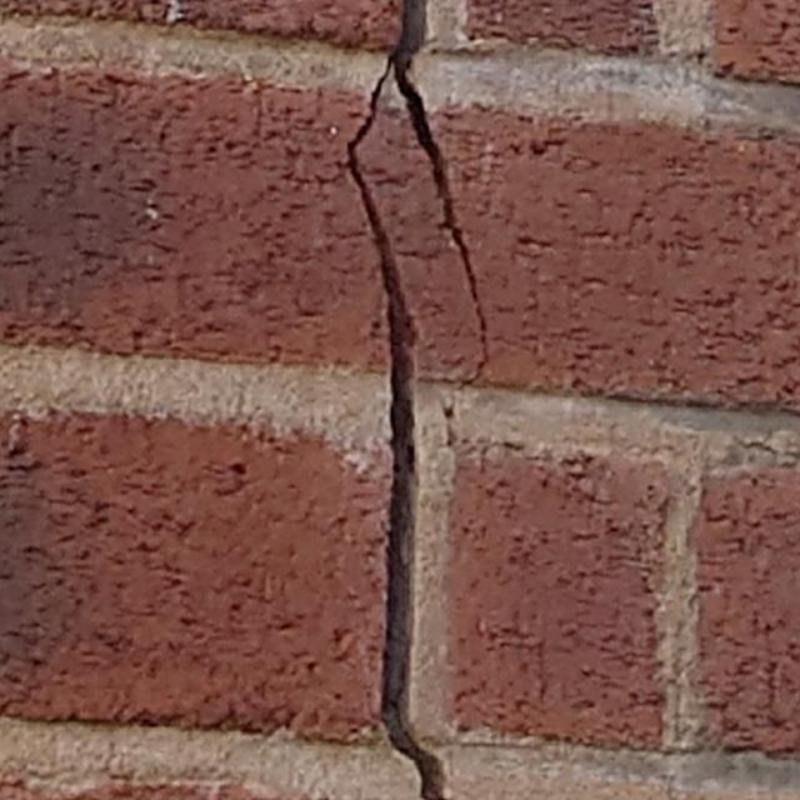pothole: (347, 0, 489, 799)
